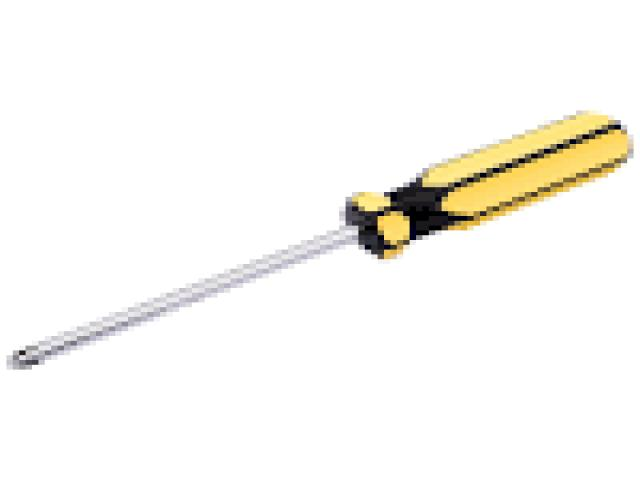Screwdriver: (8, 112, 630, 368)
